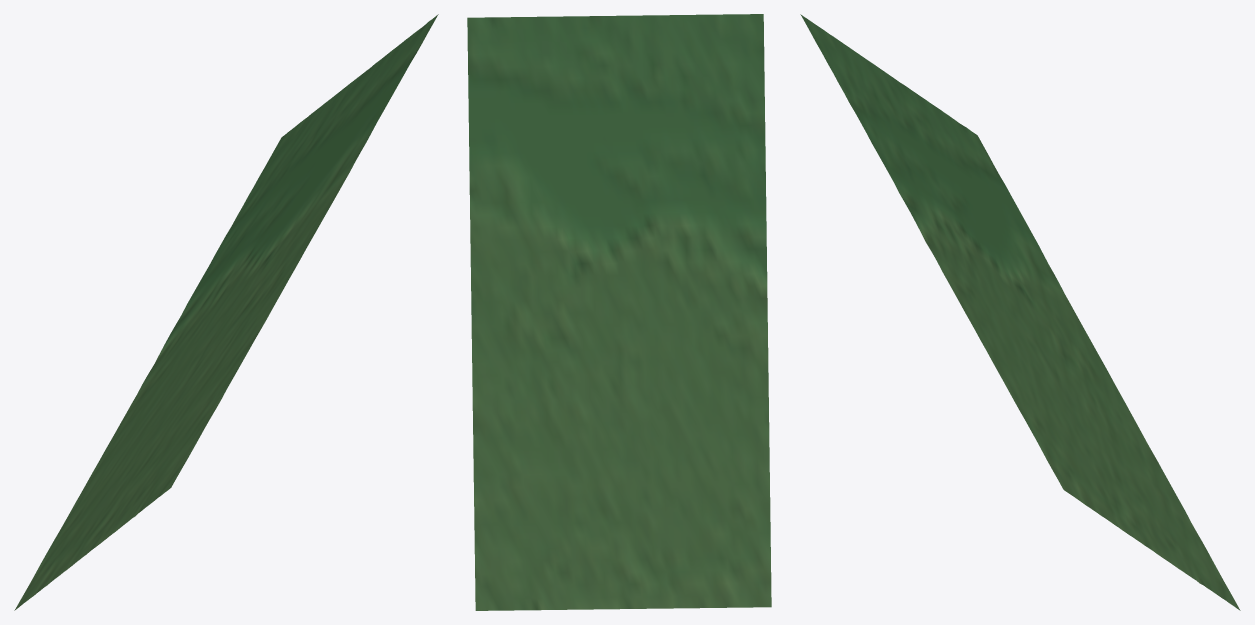
3 views of the same model, side by side, from view 1: azimuth 30°, elevation 25°; view 2: azimuth 150°, elevation 25°; view 3: azimuth 270°, elevation 25° (orthographic). The views are drawn at different scales.
Bounding box in the file's own units: 9907 × 13249 × 9707.
